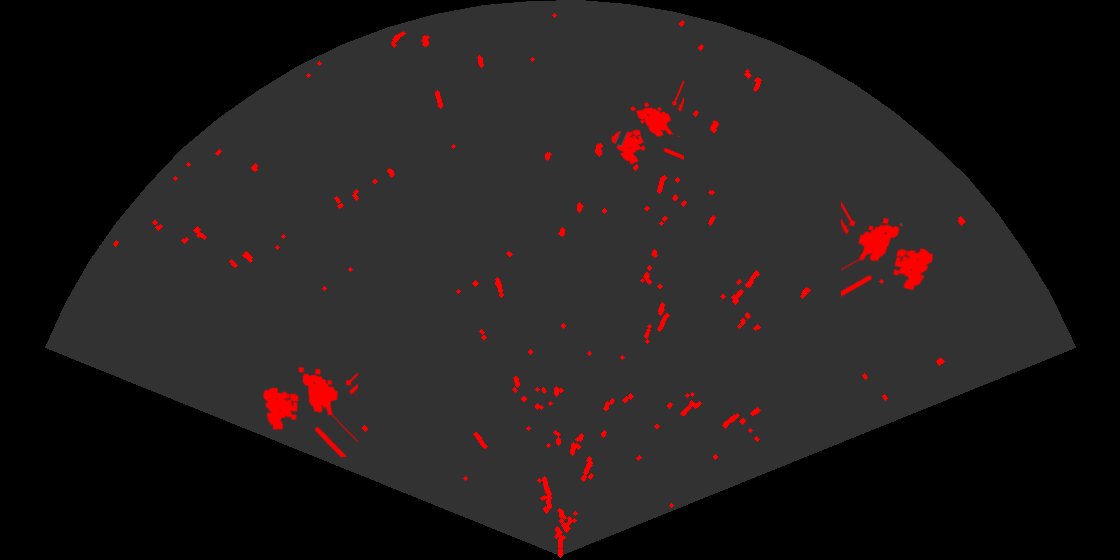cage: (841, 199, 935, 299), (261, 365, 358, 457), (610, 81, 684, 166)
